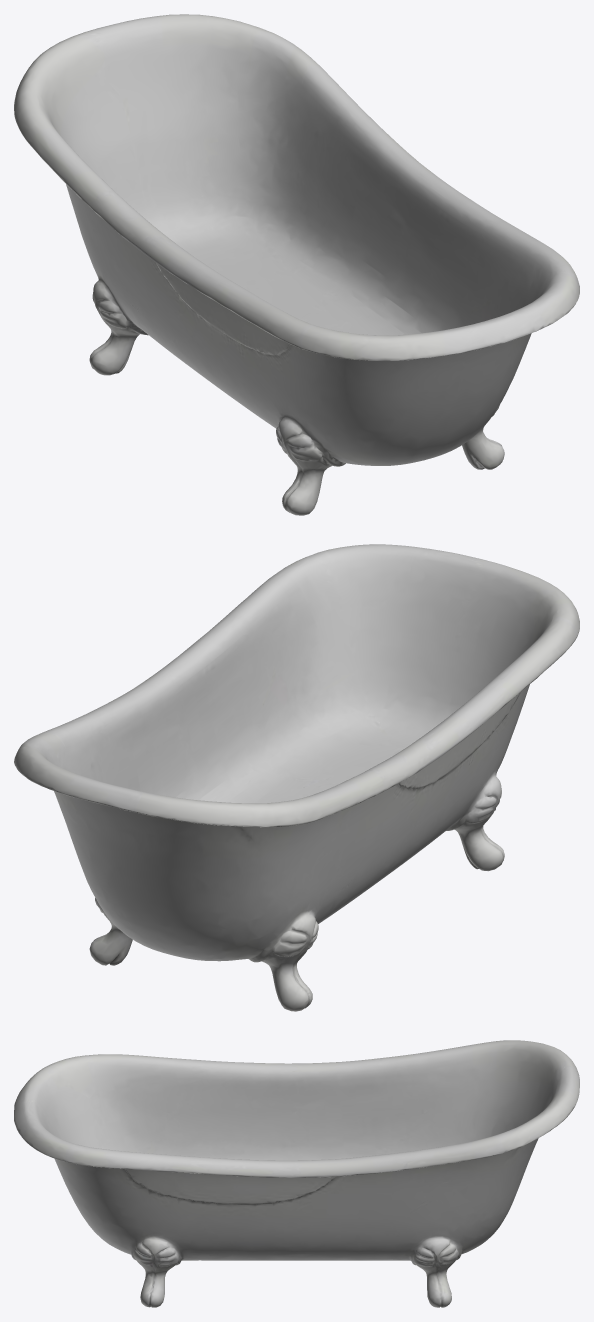
Rendered from prop_bathtub-CcbC7ii7.glb.
3 views of the same model, one above another, from view 1: azimuth 30°, elevation 25°; view 2: azimuth 150°, elevation 25°; view 3: azimuth 270°, elevation 25° (orthographic). The views are drawn at different scales.
Visible parts, largest first — view 1: tripo_node_5d580360-2329-4098-9c8d-2cbee53edb19; view 2: tripo_node_5d580360-2329-4098-9c8d-2cbee53edb19; view 3: tripo_node_5d580360-2329-4098-9c8d-2cbee53edb19.
Boxes of the visible parts, x1,y1,x2,y2 form: tripo_node_5d580360-2329-4098-9c8d-2cbee53edb19: (14,14,579,515); tripo_node_5d580360-2329-4098-9c8d-2cbee53edb19: (14,544,579,1011); tripo_node_5d580360-2329-4098-9c8d-2cbee53edb19: (14,1040,579,1307).
Bounding box in the file's own units: 0.4508 × 0.3834 × 1.
Materials: 1 (1 with a texture image).
